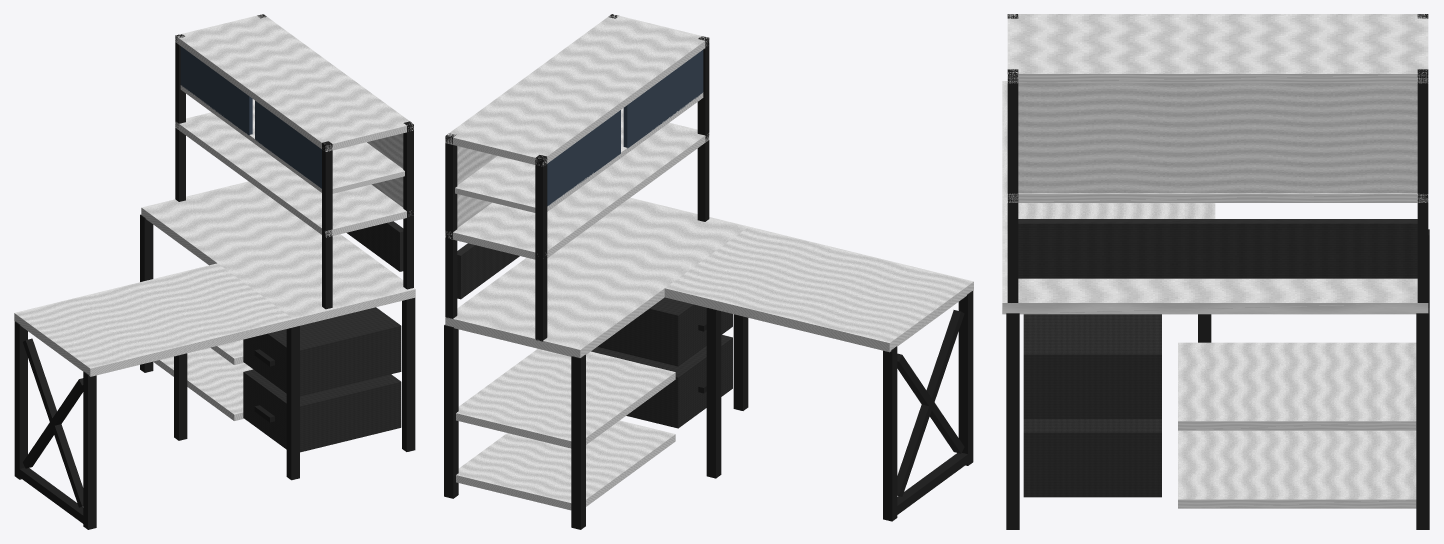
3 views of the same model, side by side, from view 1: azimuth 30°, elevation 25°; view 2: azimuth 150°, elevation 25°; view 3: azimuth 270°, elevation 25° (orthographic). The views are drawn at different scales.
Parts seen in each view (by area): view 1: 2 right_desktop, 1 left_desktop, 23 hutch_top_shelf, 15 drawer_1, 24 hutch_mid_shelf, 16 drawer_2, 25 hutch_cabinet_shelf, 14 lower_shelf_2, 27 hutch_glass_door_1, 28 hutch_glass_door_2, 3 left_leg_front, 10 right_frame_leg_fr (+13 smaller); view 2: 2 right_desktop, 1 left_desktop, 23 hutch_top_shelf, 13 lower_shelf_1, 14 lower_shelf_2, 24 hutch_mid_shelf, 15 drawer_1, 16 drawer_2, 25 hutch_cabinet_shelf, 28 hutch_glass_door_2, 27 hutch_glass_door_1, 8 mid_leg_back (+13 smaller); view 3: 26 hutch_back_panel, 23 hutch_top_shelf, 29 storage_bag_panel, 13 lower_shelf_1, 14 lower_shelf_2, 2 right_desktop, 15 drawer_1, 16 drawer_2, 24 hutch_mid_shelf, 1 left_desktop, 12 right_frame_leg_br, 10 right_frame_leg_fr (+2 smaller).
Part boxes in pixels (x1,y1,x2,y2): 2 right_desktop: [141, 181, 415, 326]; 1 left_desktop: [14, 263, 293, 376]; 23 hutch_top_shelf: [175, 14, 413, 151]; 15 drawer_1: [243, 307, 401, 396]; 24 hutch_mid_shelf: [175, 112, 411, 237]; 16 drawer_2: [243, 369, 401, 452]; 25 hutch_cabinet_shelf: [180, 85, 404, 193]; 14 lower_shelf_2: [153, 348, 252, 420]; 27 hutch_glass_door_1: [180, 46, 252, 135]; 28 hutch_glass_door_2: [255, 100, 321, 188]; 3 left_leg_front: [83, 371, 96, 529]; 10 right_frame_leg_fr: [402, 298, 415, 451]; 2 right_desktop: [445, 197, 748, 357]; 1 left_desktop: [664, 226, 973, 352]; 23 hutch_top_shelf: [445, 14, 708, 166]; 13 lower_shelf_1: [456, 349, 675, 448]; 14 lower_shelf_2: [456, 420, 675, 510]; 24 hutch_mid_shelf: [445, 122, 709, 259]; 15 drawer_1: [597, 297, 732, 366]; 16 drawer_2: [591, 335, 732, 428]; 25 hutch_cabinet_shelf: [455, 92, 703, 212]; 28 hutch_glass_door_2: [623, 50, 703, 148]; 27 hutch_glass_door_1: [547, 110, 620, 206]; 8 mid_leg_back: [706, 308, 721, 478]; 26 hutch_back_panel: [1018, 83, 1417, 192]; 23 hutch_top_shelf: [1007, 14, 1428, 83]; 29 storage_bag_panel: [1018, 219, 1417, 278]; 13 lower_shelf_1: [1178, 342, 1416, 430]; 14 lower_shelf_2: [1178, 430, 1416, 508]; 2 right_desktop: [1002, 219, 1428, 314]; 15 drawer_1: [1023, 314, 1161, 418]; 16 drawer_2: [1023, 419, 1161, 497]; 24 hutch_mid_shelf: [1007, 193, 1428, 202]; 1 left_desktop: [1002, 81, 1215, 219]; 12 right_frame_leg_br: [1416, 308, 1429, 529]; 10 right_frame_leg_fr: [1006, 313, 1019, 529].
Bounding box in the file's own units: 1.05 × 1 × 0.85.
Materials: 4 (2 with a texture image).
